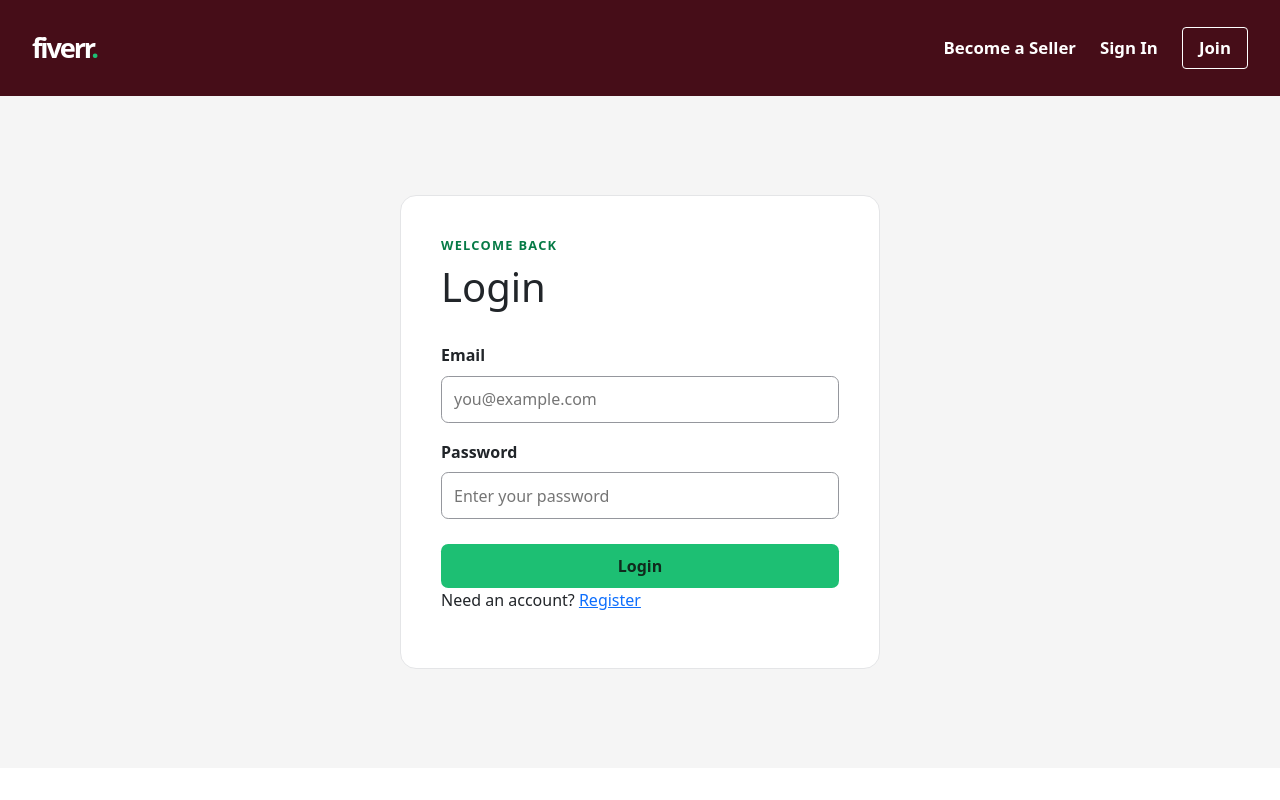
Test: authentication routes › reports invalid credentials without disclosing which field was wrong
Type "alex@example.com" into the field labelled "Email". click: (640, 399)
box: top-left (441, 376), bottom-right (839, 423)
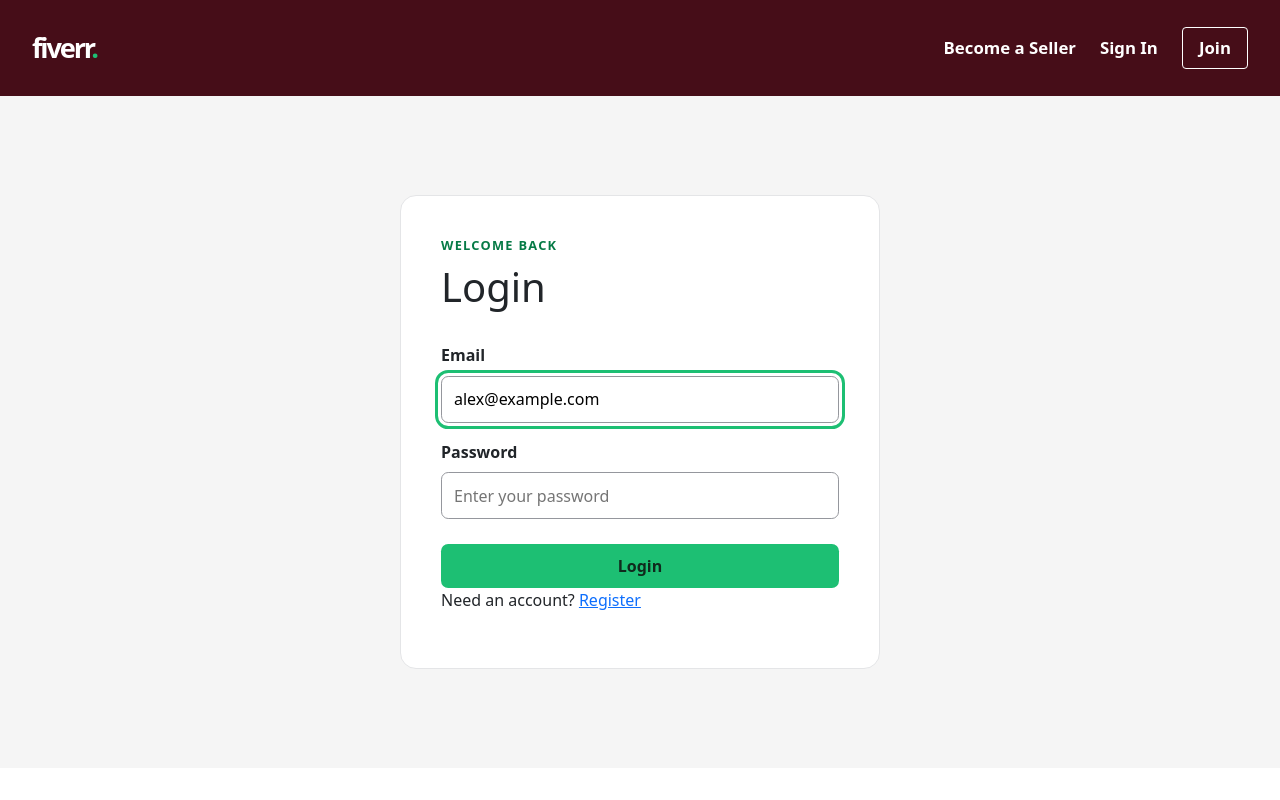
Type "incorrect" into the password field labelled "Password". click: (640, 496)
box: top-left (441, 472), bottom-right (839, 519)
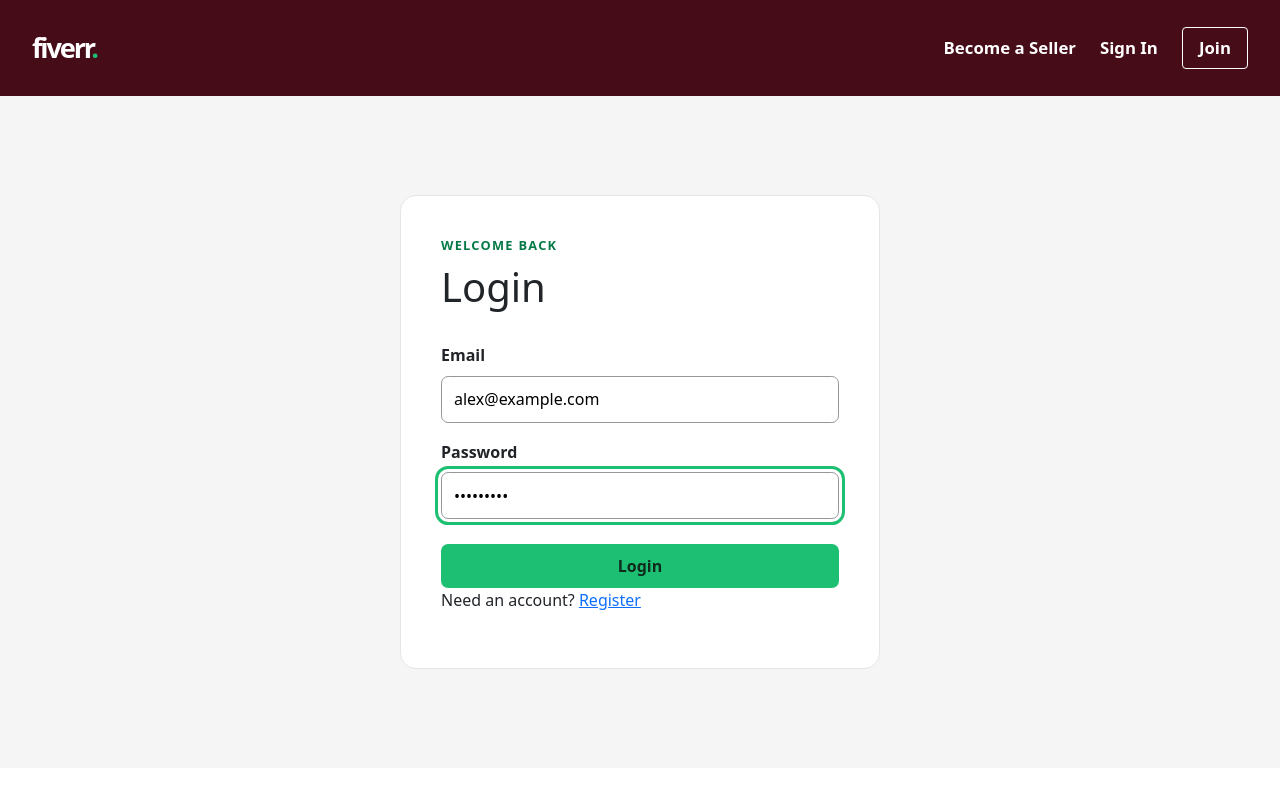
Click the button "Login". click: click(640, 566)
box: top-left (441, 544), bottom-right (839, 588)
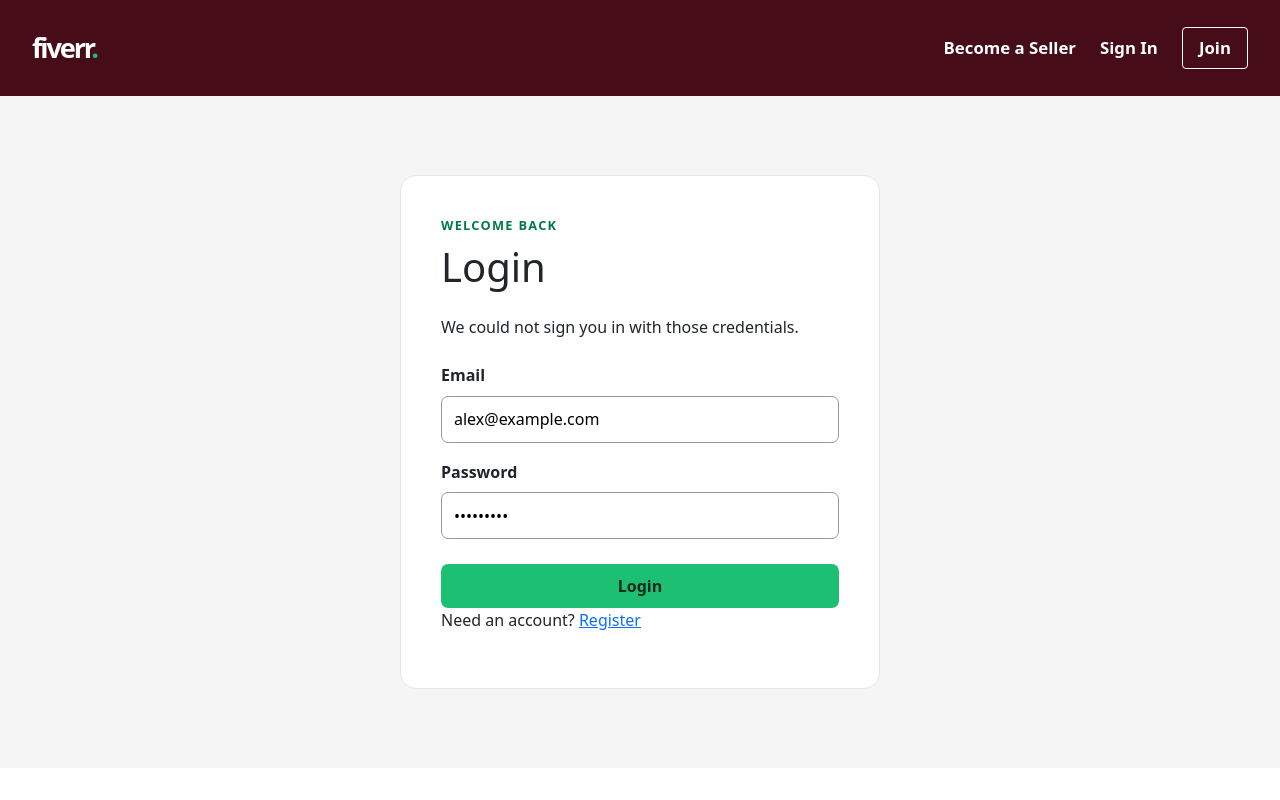
Check: the heading "Login" is shown, box top-left (441, 239), bottom-right (546, 294)
Check: the message reads "We could not sign you in with those credentials.", box top-left (441, 316), bottom-right (799, 338)
